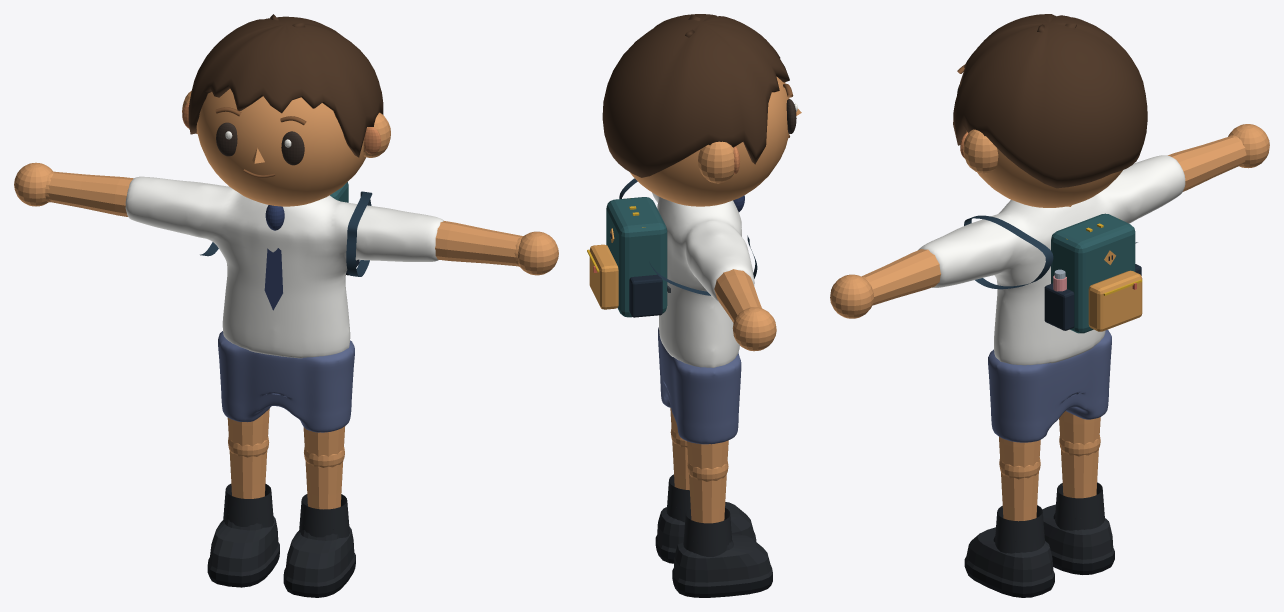
The model's file is Boy_School_Bag.glb.
The picture shows the model from 3 angles, left to right: view 1: azimuth 30°, elevation 25°; view 2: azimuth 150°, elevation 25°; view 3: azimuth 270°, elevation 25°; orthographic projection.
Visible parts, largest first — view 1: Boy_School_Bag_BaldCharacter_Mesh, Boy_School_Bag_Reusable_Shirt, Boy_School_Bag_Reusable_Shorts, Boy_School_Bag_Reusable_Boot_Base, Boy_School_Bag_Boot_Cuff_shin.L, Boy_School_Bag_Boot_Cuff_shin.R, Boy_School_Bag_Flat_Strap_L, Boy_School_Bag_Tie_Body; view 2: Boy_School_Bag_BaldCharacter_Mesh, Boy_School_Bag_Reusable_Shirt, Boy_School_Bag_Backpack, Boy_School_Bag_Reusable_Boot_Base, Boy_School_Bag_Reusable_Shorts, Boy_School_Bag_Boot_Cuff_shin.R, Boy_School_Bag_Boot_Cuff_shin.L, Boy_School_Bag_Knee_Seam_-1, Boy_School_Bag_Flat_Strap_R; view 3: Boy_School_Bag_BaldCharacter_Mesh, Boy_School_Bag_Reusable_Shirt, Boy_School_Bag_Backpack, Boy_School_Bag_Reusable_Shorts, Boy_School_Bag_Reusable_Boot_Base, Boy_School_Bag_Boot_Cuff_shin.R, Boy_School_Bag_Boot_Cuff_shin.L, Boy_School_Bag_Flat_Strap_L.
Part boxes in pixels (<box>): Boy_School_Bag_BaldCharacter_Mesh: <box>14,14,558,509</box>; Boy_School_Bag_Reusable_Shirt: <box>125,176,443,358</box>; Boy_School_Bag_Reusable_Shorts: <box>218,331,354,432</box>; Boy_School_Bag_Reusable_Boot_Base: <box>207,514,355,597</box>; Boy_School_Bag_Boot_Cuff_shin.L: <box>299,494,349,537</box>; Boy_School_Bag_Boot_Cuff_shin.R: <box>223,484,273,527</box>; Boy_School_Bag_Flat_Strap_L: <box>346,191,372,276</box>; Boy_School_Bag_Tie_Body: <box>264,248,282,310</box>; Boy_School_Bag_BaldCharacter_Mesh: <box>602,14,801,523</box>; Boy_School_Bag_Reusable_Shirt: <box>652,192,754,367</box>; Boy_School_Bag_Backpack: <box>587,197,670,317</box>; Boy_School_Bag_Reusable_Boot_Base: <box>655,502,772,597</box>; Boy_School_Bag_Reusable_Shorts: <box>658,327,741,444</box>; Boy_School_Bag_Boot_Cuff_shin.R: <box>683,508,732,556</box>; Boy_School_Bag_Boot_Cuff_shin.L: <box>666,474,690,522</box>; Boy_School_Bag_Knee_Seam_-1: <box>687,460,728,481</box>; Boy_School_Bag_Flat_Strap_R: <box>649,235,757,295</box>; Boy_School_Bag_BaldCharacter_Mesh: <box>830,14,1269,521</box>; Boy_School_Bag_Reusable_Shirt: <box>918,155,1185,365</box>; Boy_School_Bag_Backpack: <box>1044,213,1142,333</box>; Boy_School_Bag_Reusable_Shorts: <box>988,329,1111,442</box>; Boy_School_Bag_Reusable_Boot_Base: <box>964,504,1114,597</box>; Boy_School_Bag_Boot_Cuff_shin.R: <box>1055,482,1104,530</box>; Boy_School_Bag_Boot_Cuff_shin.L: <box>995,505,1044,553</box>; Boy_School_Bag_Flat_Strap_L: <box>964,215,1053,289</box>.
Bounding box in the file's own units: 1.59 × 2.41 × 1.74.
